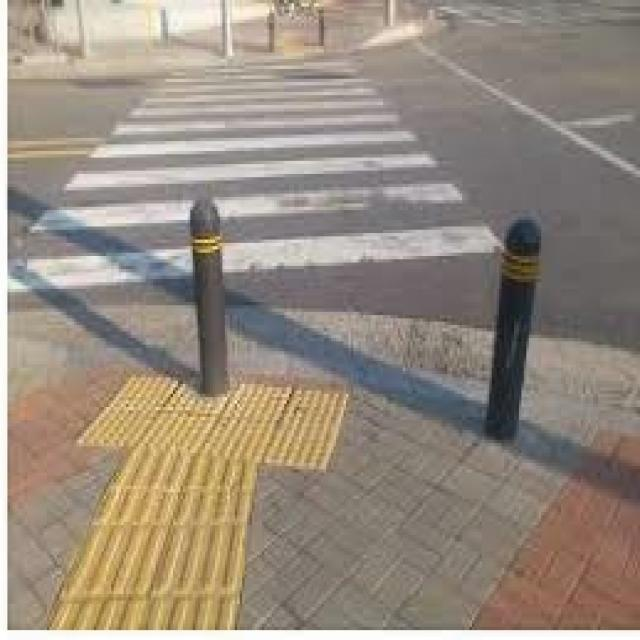bollard: (472, 210, 546, 446), (191, 191, 228, 395)
